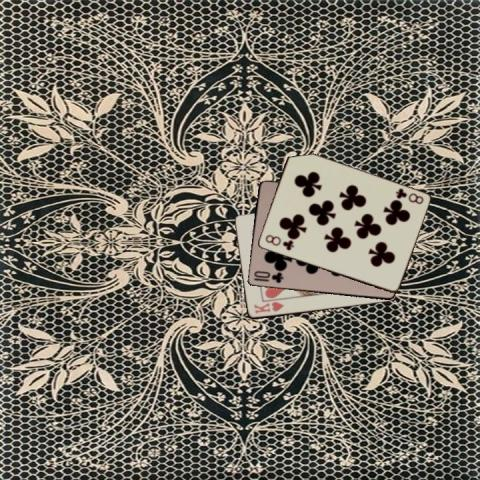10c: (250, 268, 284, 285)
8c: (262, 231, 295, 252), (392, 185, 424, 206)
Kh: (250, 299, 284, 315)
